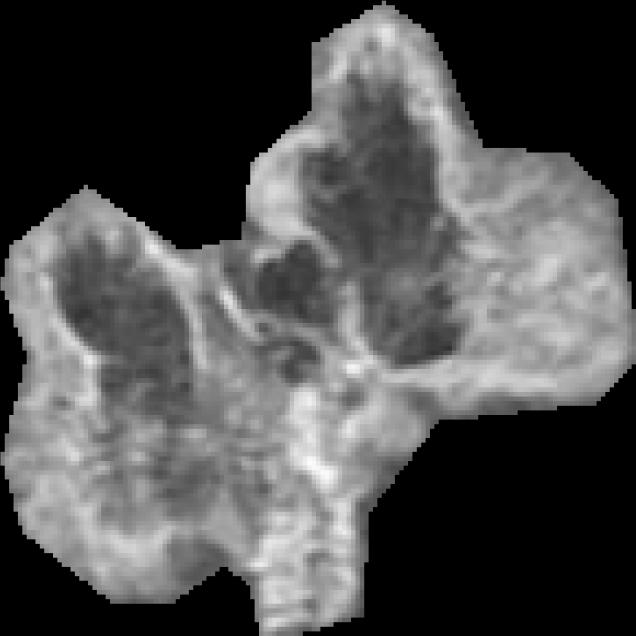tumor_moderate_chance: (0, 1, 636, 636)
